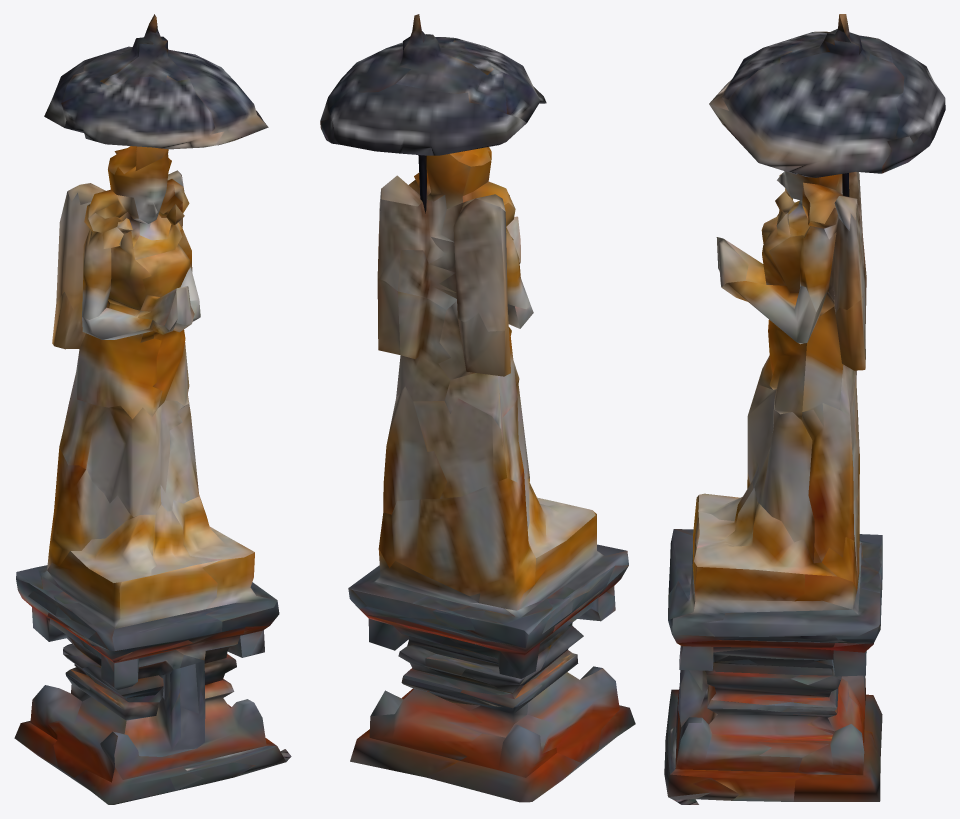
The model's file is patung_lod2.glb.
3 renders of one model, left to right at view 1: azimuth 30°, elevation 25°; view 2: azimuth 150°, elevation 25°; view 3: azimuth 270°, elevation 25°, orthographic. The views are drawn at different scales.
Parts seen in each view (by area): view 1: tripo_node_9d30e370-3cec-4fa0-b20a-a9b804d2b3a1; view 2: tripo_node_9d30e370-3cec-4fa0-b20a-a9b804d2b3a1; view 3: tripo_node_9d30e370-3cec-4fa0-b20a-a9b804d2b3a1.
Boxes of the visible parts, left/top/right/bottom form: tripo_node_9d30e370-3cec-4fa0-b20a-a9b804d2b3a1: left=14, top=14, right=291, bottom=804; tripo_node_9d30e370-3cec-4fa0-b20a-a9b804d2b3a1: left=320, top=14, right=635, bottom=802; tripo_node_9d30e370-3cec-4fa0-b20a-a9b804d2b3a1: left=664, top=14, right=945, bottom=804.
Bounding box in the file's own units: 0.3208 × 0.9979 × 0.3331.
1 material, 1 textured.
